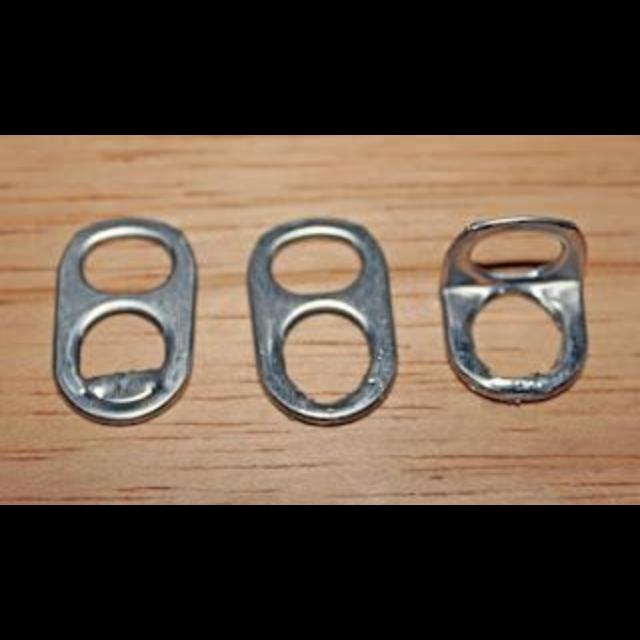aba de lata: (246, 217, 398, 428), (50, 215, 198, 427), (438, 218, 588, 406)
